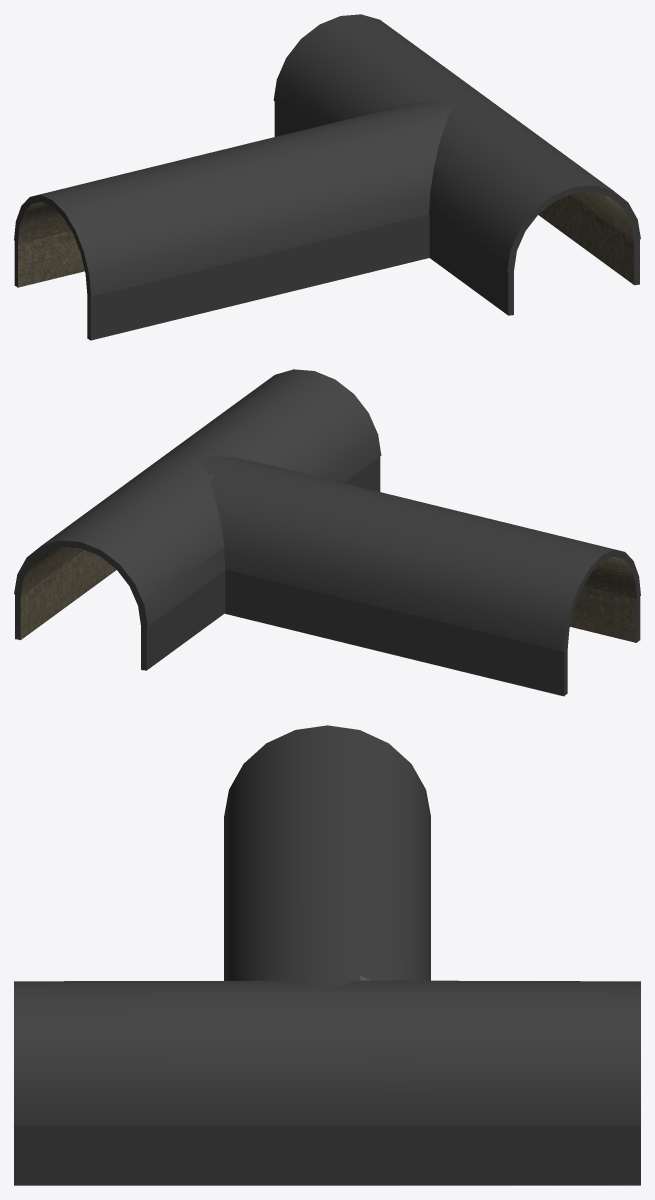
The model's file is DoubleChunk.fbx.
The picture shows the model from 3 angles, top to bottom: view 1: azimuth 30°, elevation 25°; view 2: azimuth 150°, elevation 25°; view 3: azimuth 270°, elevation 25°; orthographic projection. The views are drawn at different scales.
Visible parts, largest first — view 1: Tunnel.001; view 2: Tunnel.001; view 3: Tunnel.001.
Part boxes in pixels (<box>): Tunnel.001: <box>14,14,640,340</box>; Tunnel.001: <box>14,369,640,696</box>; Tunnel.001: <box>14,725,640,1185</box>.
Bounding box in the file's own units: 1206 × 278 × 1035.
